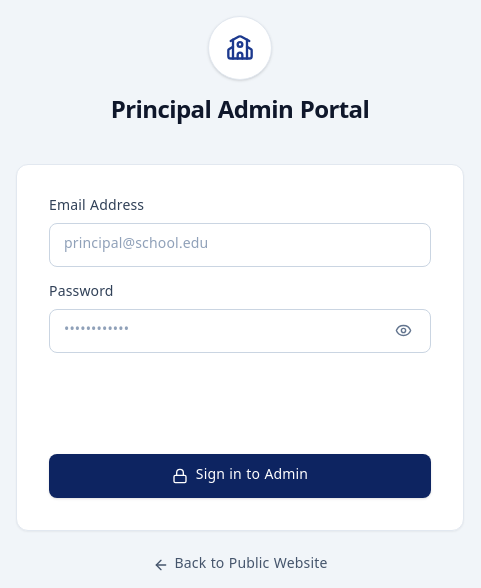
AdminLoginPage › toggles password visibility without submitting the form
Click the button named "Show password": (403, 331) [381,309,425,353]
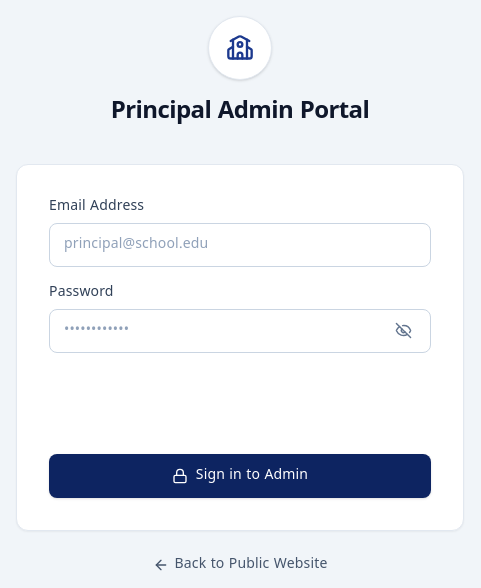
Check: the button named "Hide password" is shown, box [381,309,425,353]
